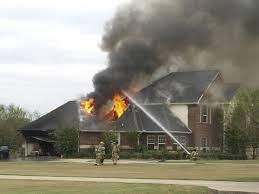fire: (102, 92, 129, 117), (79, 96, 95, 113)
